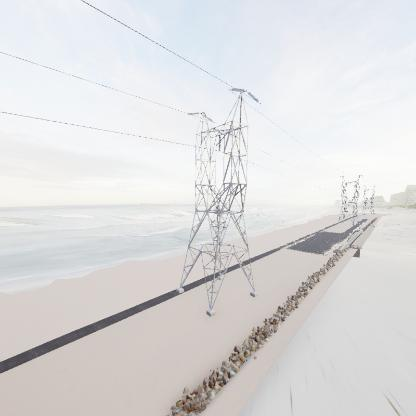tower: (178, 86, 261, 318), (337, 171, 363, 229)
